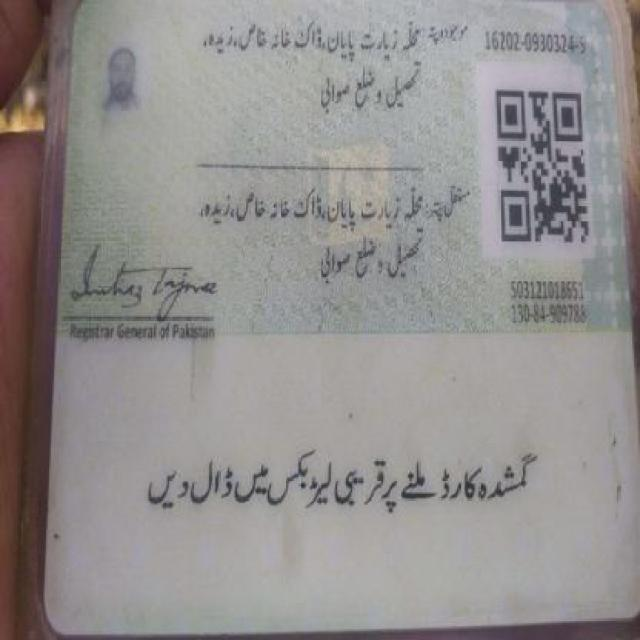Back: (28, 5, 629, 632)
